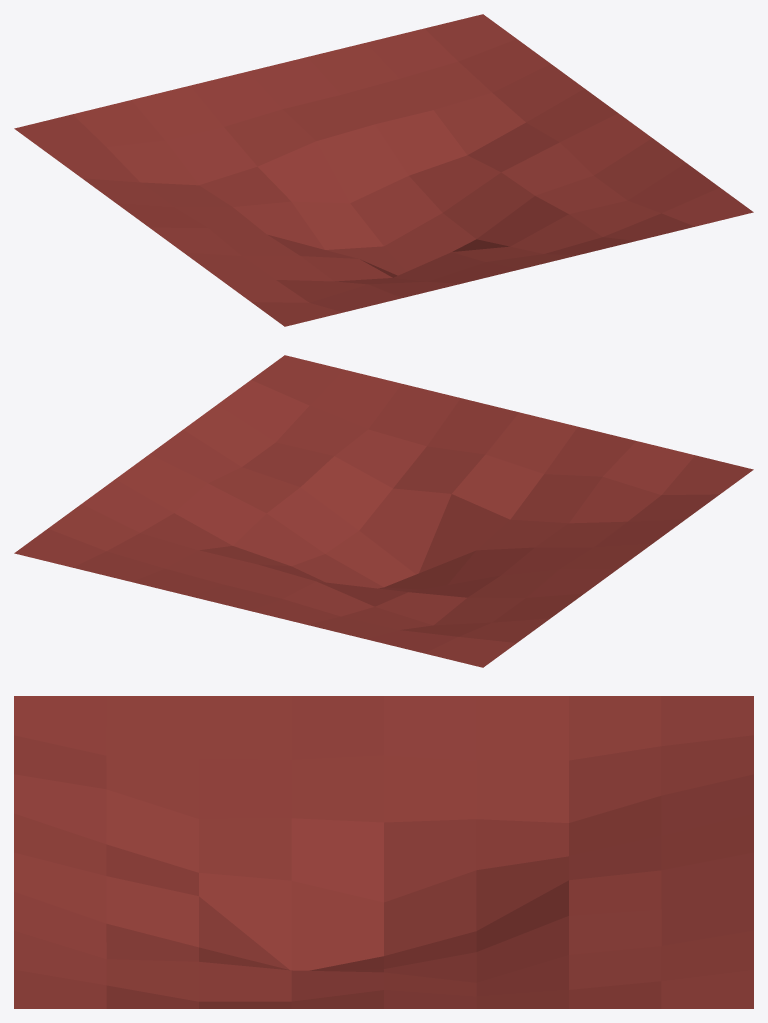
The model's file is Terrain_8_Red.fbx.
3 views of the same model, one above another, from view 1: azimuth 30°, elevation 25°; view 2: azimuth 150°, elevation 25°; view 3: azimuth 270°, elevation 25° (orthographic). The views are drawn at different scales.
Visible parts, largest first — view 1: Terrain_8_Red; view 2: Terrain_8_Red; view 3: Terrain_8_Red.
Boxes of the visible parts, x1,y1,x2,y2 form: Terrain_8_Red: (14, 14, 753, 326); Terrain_8_Red: (14, 355, 753, 667); Terrain_8_Red: (14, 696, 753, 1008).
Size of the model in its own units: 4000 by 726 by 4000.
